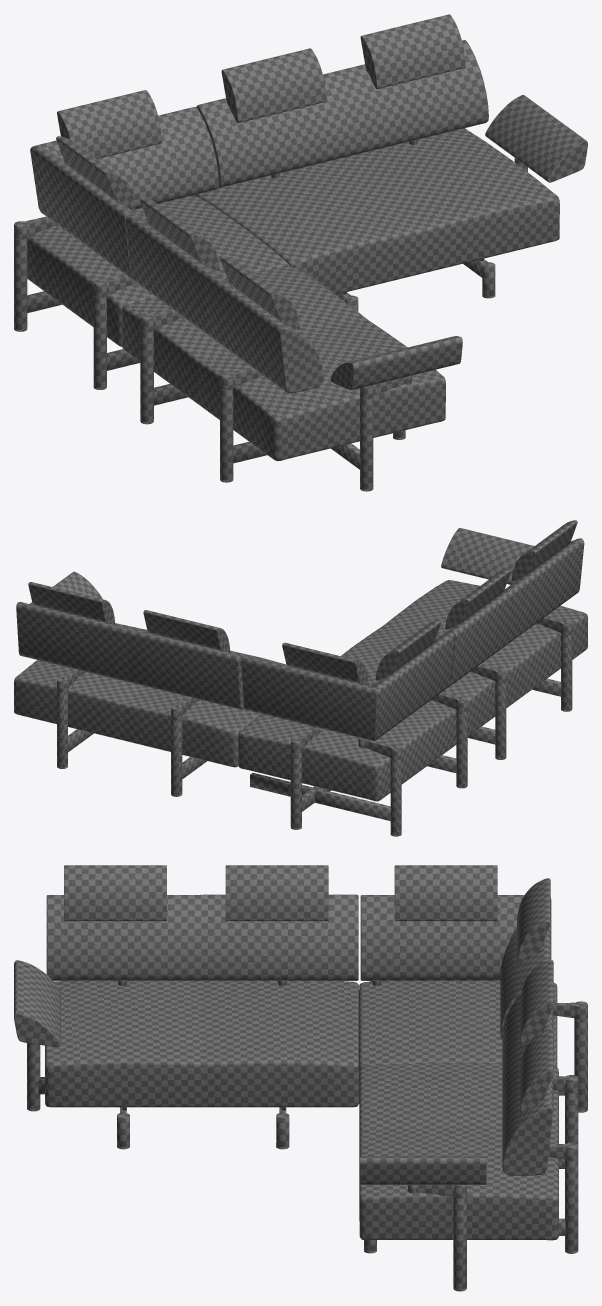
Rendered from aws_Sofa_01.DAE.
3 views of the same model, one above another, from view 1: azimuth 30°, elevation 25°; view 2: azimuth 150°, elevation 25°; view 3: azimuth 270°, elevation 25° (orthographic). The views are drawn at different scales.
Visible parts, largest first — view 1: aws_Sofa_01; view 2: aws_Sofa_01; view 3: aws_Sofa_01.
Part boxes in pixels (bbox=[...]): aws_Sofa_01: bbox=[14, 14, 587, 491]; aws_Sofa_01: bbox=[14, 520, 587, 836]; aws_Sofa_01: bbox=[14, 865, 587, 1291].
Size of what is drawn, in the model's own units: 2414 by 2457 by 966.
